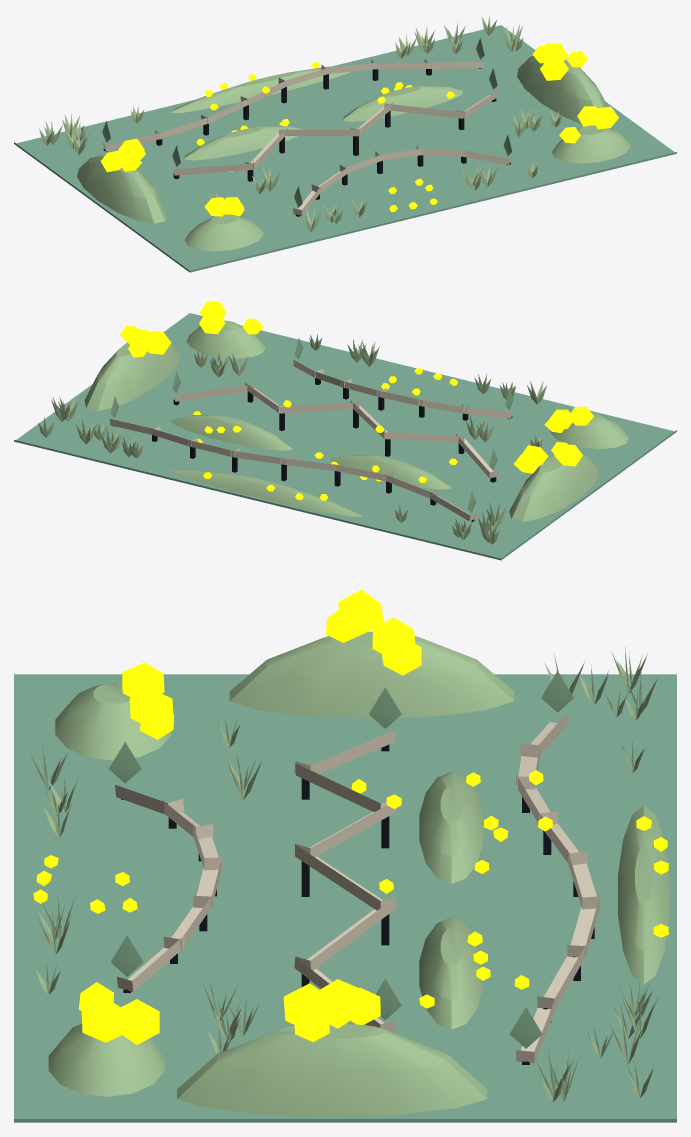
The picture shows the model from 3 angles, top to bottom: view 1: azimuth 30°, elevation 25°; view 2: azimuth 150°, elevation 25°; view 3: azimuth 270°, elevation 25°; orthographic projection. The views are drawn at different scales.
Visible parts, largest first — view 1: Safety_Pad, Terrain, Balance_Beam, Foliage, Grass_Tufts, Balance_Beam_Posts, Balance_Beam_Crests; view 2: Safety_Pad, Terrain, Balance_Beam, Foliage, Grass_Tufts, Balance_Beam_Posts, Balance_Beam_Crests; view 3: Safety_Pad, Terrain, Foliage, Balance_Beam, Grass_Tufts, Balance_Beam_Crests, Balance_Beam_Posts.
Boxes of the visible parts, x1,y1,x2,y2 form: Safety_Pad: (14,25,676,272); Terrain: (77,56,630,251); Balance_Beam: (103,59,509,215); Foliage: (100,43,618,216); Grass_Tufts: (39,15,562,231); Balance_Beam_Posts: (103,68,510,216); Balance_Beam_Crests: (102,38,512,207); Safety_Pad: (14,313,676,560); Terrain: (84,320,629,521); Balance_Beam: (109,360,511,521); Foliage: (120,301,593,500); Grass_Tufts: (38,334,546,544); Balance_Beam_Posts: (113,378,512,521); Balance_Beam_Crests: (110,338,513,512); Safety_Pad: (14,674,676,1122); Terrain: (48,631,669,1116); Foliage: (33,589,668,1044); Balance_Beam: (115,712,600,1062); Grass_Tufts: (29,647,658,1102); Balance_Beam_Crests: (109,671,573,1048); Balance_Beam_Posts: (121,725,594,1064).
Size of what is drawn, in the model's own units: 8 by 0.8602 by 5.
7 materials, 1 textured.
